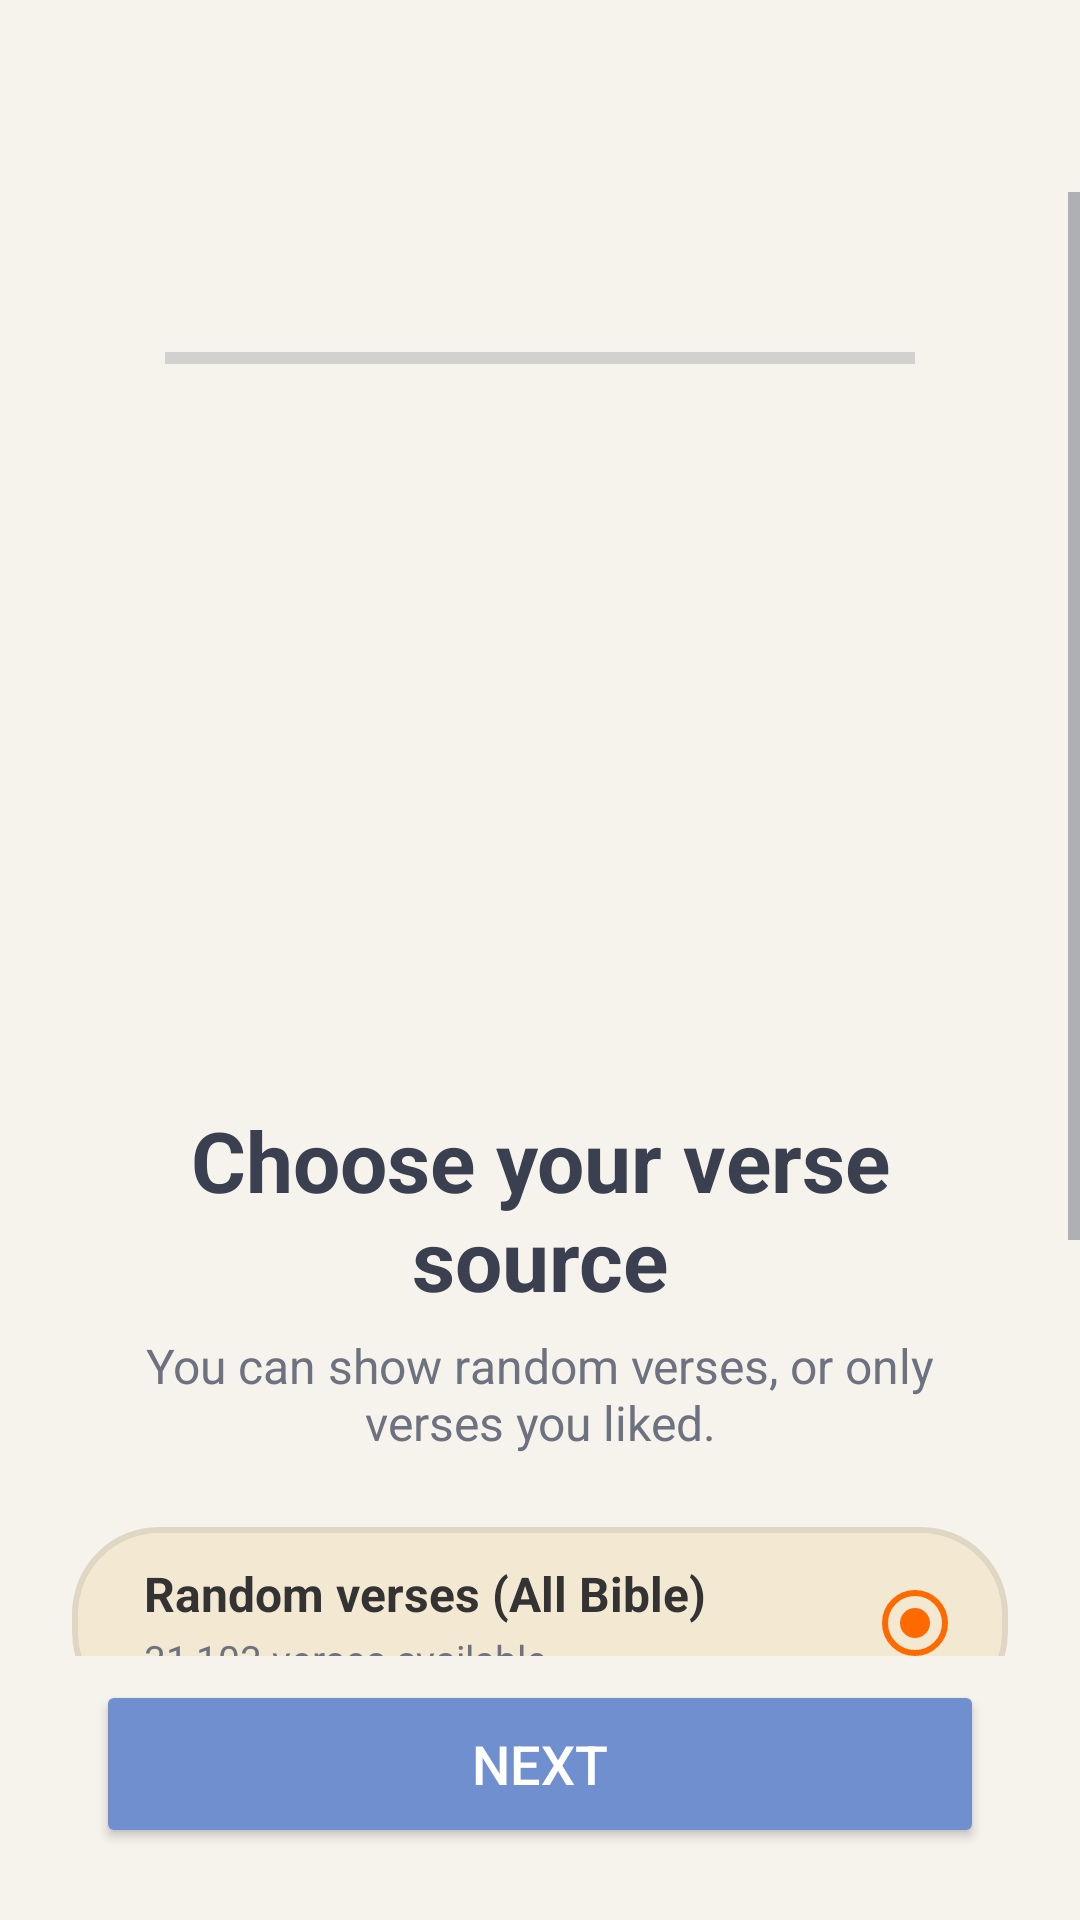

Icons on this 1080px x 1920px Android screen, each with its box as (x1, y1, x2, y2):
Select All verses: (882, 1590, 948, 1656)
